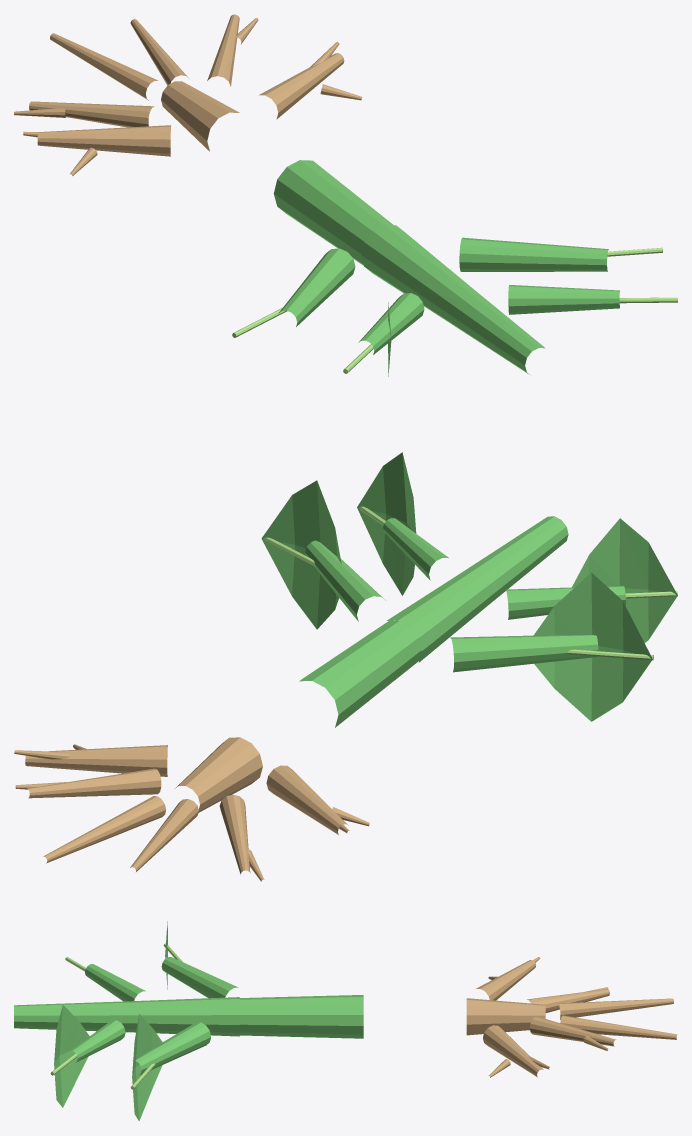
The model's file is tanaman_fotosintesis_prototype_v1.glb.
3 views of the same model, one above another, from view 1: azimuth 30°, elevation 25°; view 2: azimuth 150°, elevation 25°; view 3: azimuth 270°, elevation 25° (orthographic). The views are drawn at different scales.
Parts seen in each view (by area): view 1: world; view 2: world; view 3: world.
Boxes of the visible parts, left/top/right/bottom form: world: left=14, top=14, right=677, bottom=376; world: left=14, top=452, right=677, bottom=881; world: left=14, top=921, right=677, bottom=1120.
Size of the model in its own units: 3.13 by 1.1 by 6.03.
